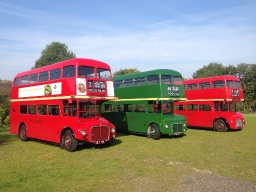bus: (10, 56, 118, 149), (113, 68, 190, 143), (183, 75, 247, 134)
